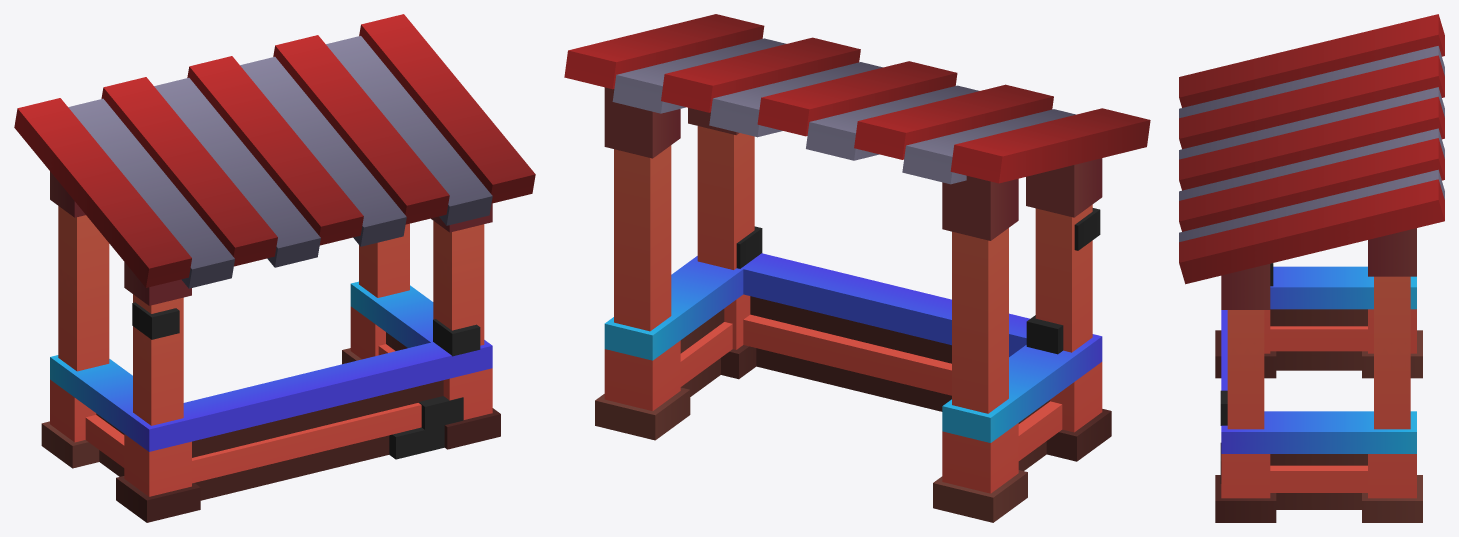
Rendered from Shop.fbx.
3 views of the same model, side by side, from view 1: azimuth 30°, elevation 25°; view 2: azimuth 150°, elevation 25°; view 3: azimuth 270°, elevation 25° (orthographic). The views are drawn at different scales.
Visible parts, largest first — view 1: Part.030; view 2: Part.030; view 3: Part.030.
Boxes of the visible parts, <box> form: Part.030: <box>14,14,535,522</box>; Part.030: <box>564,14,1150,522</box>; Part.030: <box>1179,14,1444,522</box>.
Size of the model in its own units: 402 by 333 by 243.
